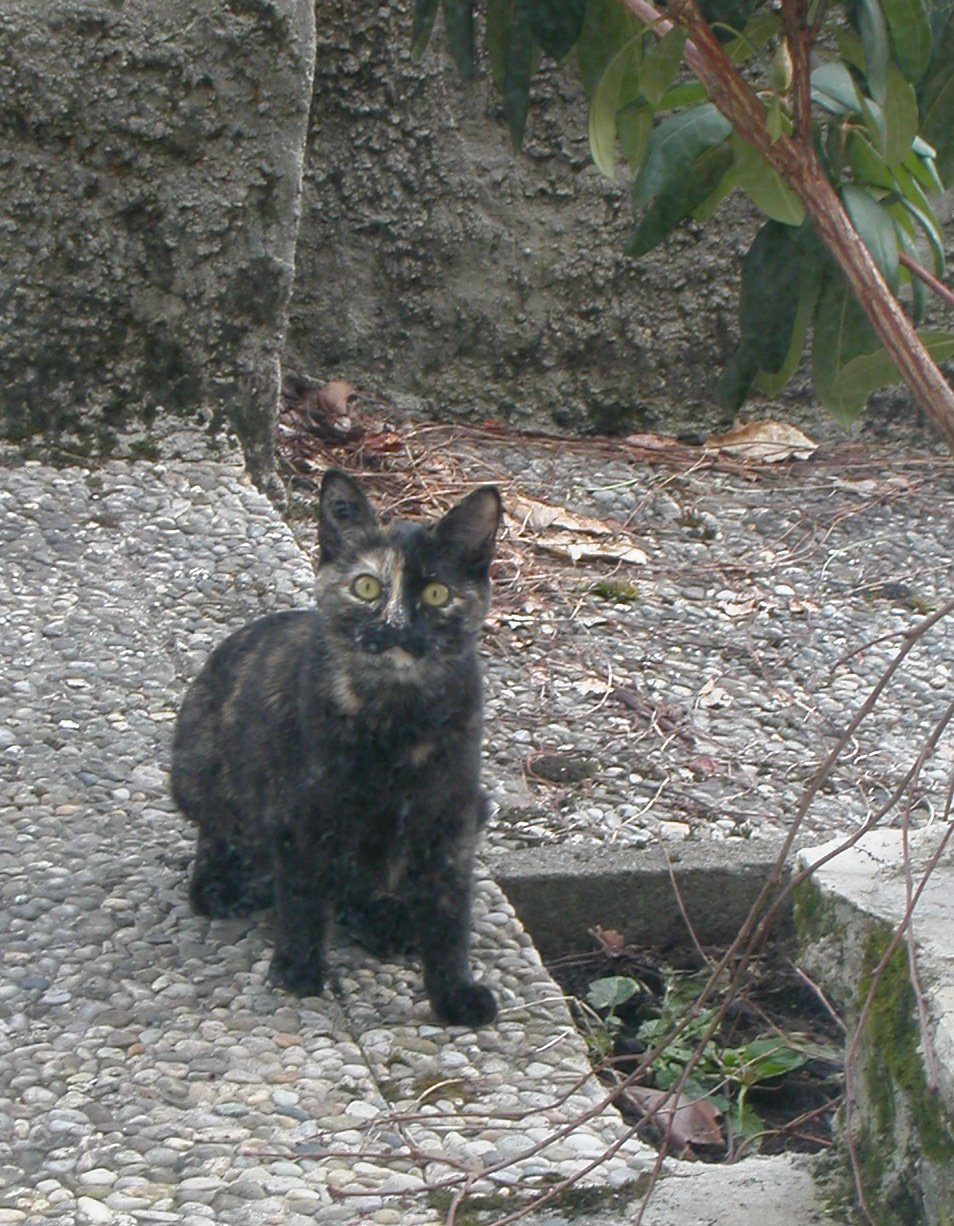cat: (168, 451, 522, 1046)
